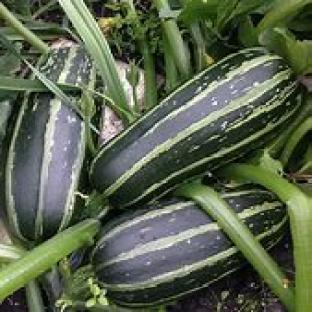Zucchini: (91, 49, 299, 206), (93, 200, 245, 306), (6, 92, 86, 240)
